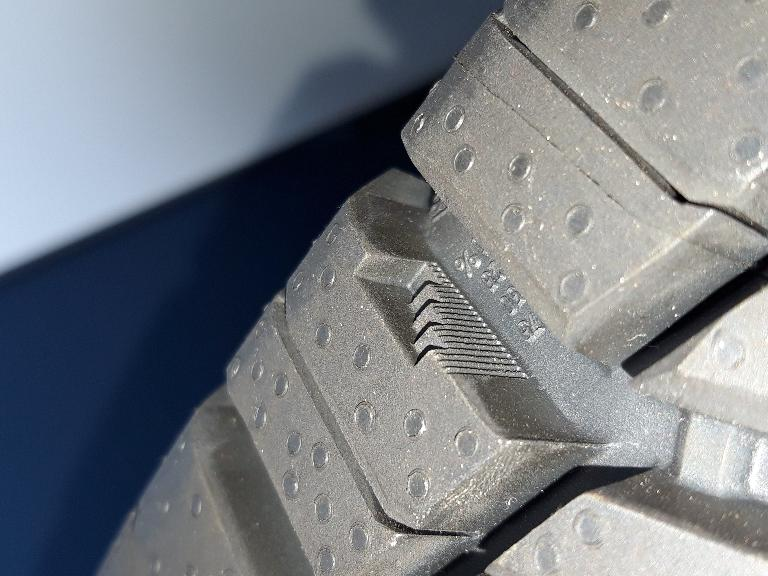temoin:100: (347, 242, 543, 389)
